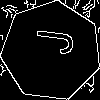J: (26, 26, 75, 56)
